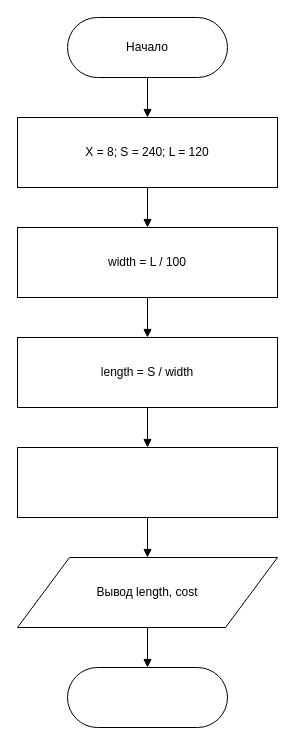
This 295x745 diagram has some shape labels left out. Here are the shapes that lost their labels. From the top down, the centre of each, then its label:
At [147,482]: "cost = length * X".
At [147,697]: "Конец".
